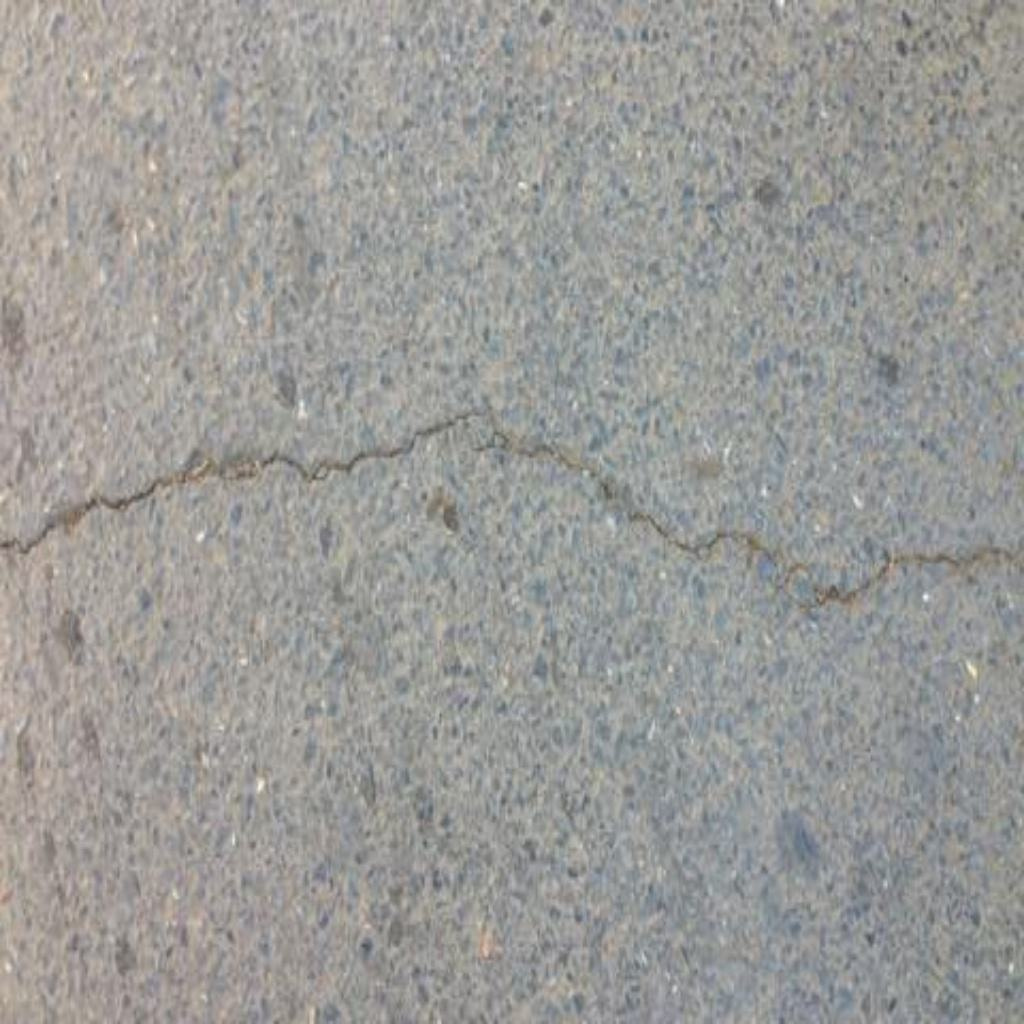Crack: (1, 403, 1024, 610)
